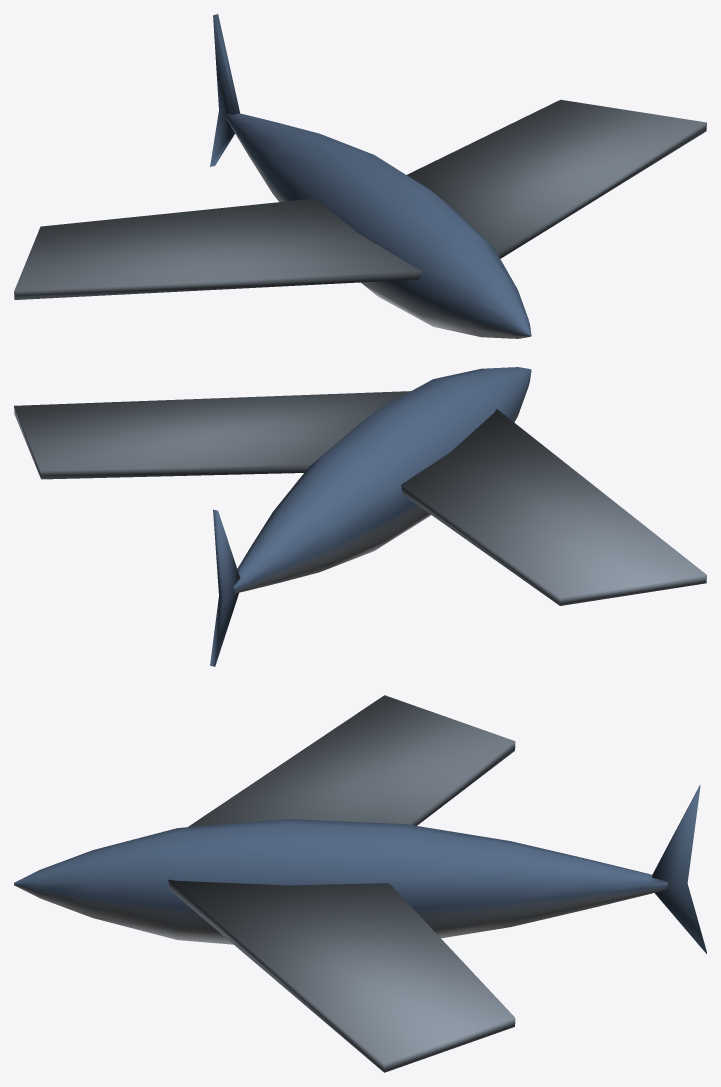
The model's file is fliegender_fisch.glb.
3 renders of one model, top to bottom at view 1: azimuth 30°, elevation 25°; view 2: azimuth 150°, elevation 25°; view 3: azimuth 270°, elevation 25°, orthographic. The views are drawn at different scales.
Visible parts, largest first — view 1: lack; view 2: lack; view 3: lack.
Part boxes in pixels (x1,y1,x2,y2): lack: (14,14,706,338); lack: (14,367,706,666); lack: (14,695,706,1072).
Size of the model in its own units: 0.4003 by 0.085 by 0.318.
